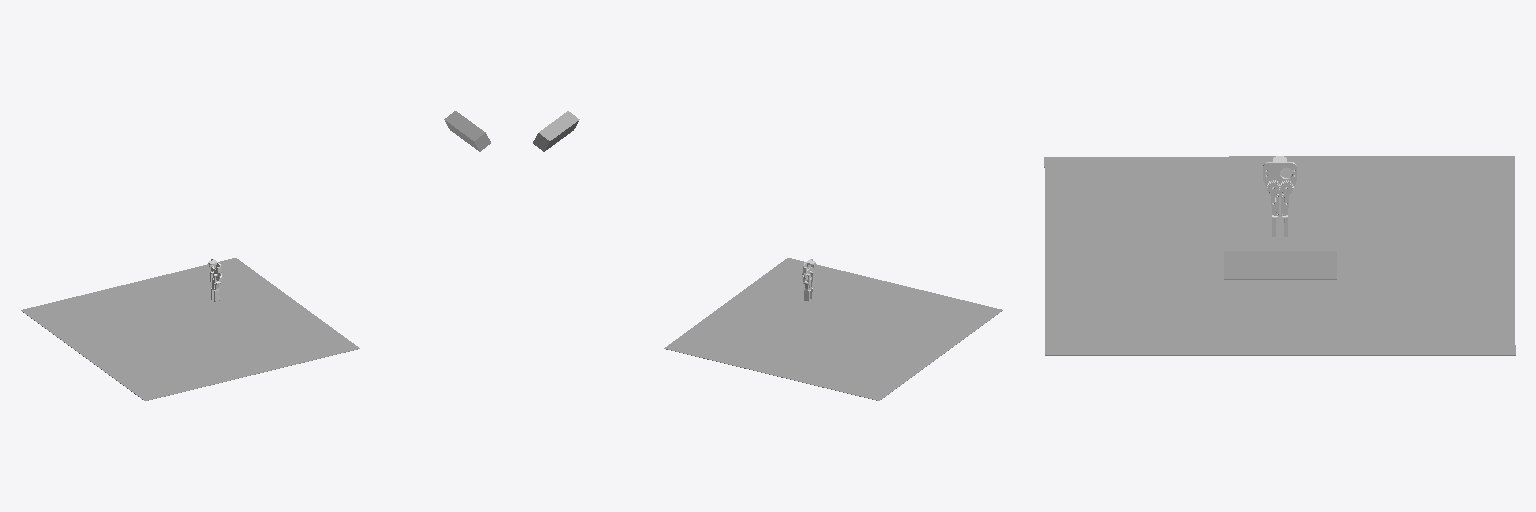
The robot description file, URDF, robot "motoman_motomini":
<?xml version="1.0" encoding="utf-8"?>
<!-- =================================================================================== -->
<!-- |    This document was autogenerated by xacro from motomini.xacro                 | -->
<!-- |    EDITING THIS FILE BY HAND IS NOT RECOMMENDED                                 | -->
<!-- =================================================================================== -->
<robot name="motoman_motomini">
  <!-- Properties -->
  <material name="yaskawa_blue">
    <color rgba="0.12941 0.14902 0.74902 1"/>
  </material>
  <!-- World frame -->
  <link name="world"/>
  <!-- Adding table to the world -->
  <link name="table">
    <origin rpy="0 0 0" xyz="0.0 0.0 0"/>
    <inertial>
      <mass value="5"/>
      <origin xyz="0 0 0"/>
      <inertia ixx="1" ixy="0.0" ixz="0.0" iyy="1" iyz="0.0" izz="1"/>
    </inertial>
    <visual>
      <geometry>
        <box size="0.83 0.830 0.001"/>
      </geometry>
      <material name="light_grey">
        <color rgba="0.7 0.7 0.7 1.0"/>
      </material>
    </visual>
    <collision>
      <geometry>
        <box size="0.83 0.830 0.001"/>
      </geometry>
    </collision>
  </link>
  <!-- link list -->
  <link name="base_link">
    <visual>
      <geometry>
        <mesh filename="package://motoman_motomini_support/meshes/motomini/visual/base_link.stl"/>
      </geometry>
      <material name="yaskawa_blue"/>
    </visual>
    <collision>
      <geometry>
        <mesh filename="package://motoman_motomini_support/meshes/motomini/collision/base_link.stl"/>
      </geometry>
    </collision>
  </link>
  <link name="link_1_s">
    <visual>
      <geometry>
        <mesh filename="package://motoman_motomini_support/meshes/motomini/visual/link_1_s.stl"/>
      </geometry>
      <material name="yaskawa_blue"/>
    </visual>
    <collision>
      <geometry>
        <mesh filename="package://motoman_motomini_support/meshes/motomini/collision/link_1_s.stl"/>
      </geometry>
    </collision>
  </link>
  <link name="link_2_l">
    <visual>
      <geometry>
        <mesh filename="package://motoman_motomini_support/meshes/motomini/visual/link_2_l.stl"/>
      </geometry>
      <material name="yaskawa_blue"/>
    </visual>
    <collision>
      <geometry>
        <mesh filename="package://motoman_motomini_support/meshes/motomini/collision/link_2_l.stl"/>
      </geometry>
    </collision>
  </link>
  <link name="link_3_u">
    <visual>
      <geometry>
        <mesh filename="package://motoman_motomini_support/meshes/motomini/visual/link_3_u.stl"/>
      </geometry>
      <material name="yaskawa_blue"/>
    </visual>
    <collision>
      <geometry>
        <mesh filename="package://motoman_motomini_support/meshes/motomini/collision/link_3_u.stl"/>
      </geometry>
    </collision>
  </link>
  <link name="link_4_r">
    <visual>
      <geometry>
        <mesh filename="package://motoman_motomini_support/meshes/motomini/visual/link_4_r.stl"/>
      </geometry>
      <material name="yaskawa_blue"/>
    </visual>
    <collision>
      <geometry>
        <mesh filename="package://motoman_motomini_support/meshes/motomini/collision/link_4_r.stl"/>
      </geometry>
    </collision>
  </link>
  <link name="link_5_b">
    <visual>
      <geometry>
        <mesh filename="package://motoman_motomini_support/meshes/motomini/visual/link_5_b.stl"/>
      </geometry>
      <material name="yaskawa_blue"/>
    </visual>
    <collision>
      <geometry>
        <mesh filename="package://motoman_motomini_support/meshes/motomini/collision/link_5_b.stl"/>
      </geometry>
    </collision>
  </link>
  <link name="link_6_t">
    <visual>
      <geometry>
        <mesh filename="package://motoman_motomini_support/meshes/motomini/visual/link_6_t.stl"/>
      </geometry>
      <material name="yaskawa_blue"/>
    </visual>
    <collision>
      <geometry>
        <mesh filename="package://motoman_motomini_support/meshes/motomini/collision/link_6_t.stl"/>
      </geometry>
    </collision>
  </link>
  <link name="tool0"/>
  <!-- end of link list -->
  <!-- Kinect link -->
  <material name="black">
    <color rgba="0. 0. 0. 1"/>
  </material>
  <material name="dark_grey">
    <color rgba="0.1 0.1 0.1 1"/>
  </material>
  <material name="grey">
    <color rgba="0.6 0.6 0.6 1"/>
  </material>
  <material name="white">
    <color rgba="0.9 0.9 0.9 1"/>
  </material>
  <link name="camera_link">
    <visual>
      <origin rpy="0 0 0" xyz="0 0 0"/>
      <geometry>
        <box size="0.05 0.2 0.05"/>
      </geometry>
      <material name="light_grey">
        <color rgba="0.7 0.7 0.7 1.0"/>
      </material>
    </visual>
    <collision>
      <origin rpy="0 0 0" xyz="0 0 0"/>
      <geometry>
        <box size="0.05 0.2 0.05"/>
      </geometry>
    </collision>
  </link>
  <!--link name="kinect2_rgb_optical_frame" >
</link-->
  <joint name="camera_joint" type="fixed">
    <parent link="base_link"/>
    <child link="camera_link"/>
    <origin rpy="0 0.4712 -3.14159265359" xyz="1.17 0 0.48"/>
  </joint>
  <!--0.865joint name="camera_optical_joint" type="fixed">  0.4712 ${{-M_PI/2}-0.4712}
    <origin xyz="0 0 0" rpy="${-M_PI/2} 0 ${-M_PI/2}" />
    <parent link="kinect2_link" />
    <child link="kinect2_rgb_optical_frame" />
</joint-->
  <!-- joint list -->
  <joint name="world_joint" type="fixed">
    <parent link="world"/>
    <child link="table"/>
    <origin rpy="0.0 0.0 -1.57" xyz="0.0 0.0 0"/>
  </joint>
  <joint name="table_joint" type="fixed">
    <parent link="table"/>
    <child link="base_link"/>
    <origin rpy="0.0 0.0 1.57079632679" xyz="0 -0.1015 0.0"/>
  </joint>
  <joint name="joint_1_s" type="revolute">
    <parent link="base_link"/>
    <child link="link_1_s"/>
    <origin rpy="0 0 0" xyz="0 0 0.103"/>
    <axis xyz="0 0 1"/>
    <limit effort="0.12" lower="-2.9670" upper="2.9670" velocity="5.4977"/>
  </joint>
  <joint name="joint_2_l" type="revolute">
    <parent link="link_1_s"/>
    <child link="link_2_l"/>
    <origin rpy="0 0 0" xyz="0.020 0 0"/>
    <axis xyz="0 1 0"/>
    <limit effort="0.12" lower="-1.4835" upper="1.5707" velocity="5.4977"/>
  </joint>
  <joint name="joint_3_u" type="revolute">
    <parent link="link_2_l"/>
    <child link="link_3_u"/>
    <origin rpy="0 0 0" xyz="0 0 0.165"/>
    <axis xyz="0 -1 0"/>
    <limit effort="0.12" lower="-0.8726" upper="1.5707" velocity="7.3304"/>
  </joint>
  <joint name="joint_4_r" type="revolute">
    <parent link="link_3_u"/>
    <child link="link_4_r"/>
    <origin rpy="0 0 0" xyz="0.165 0 0"/>
    <axis xyz="-1 0 0"/>
    <limit effort="0.07" lower="-2.4434" upper="2.4434" velocity="10.4719"/>
  </joint>
  <joint name="joint_5_b" type="revolute">
    <parent link="link_4_r"/>
    <child link="link_5_b"/>
    <origin rpy="0 0 0" xyz="0 0 0"/>
    <axis xyz="0 -1 0"/>
    <limit effort="0.07" lower="-0.5235" upper="3.6651" velocity="10.4719"/>
  </joint>
  <joint name="joint_6_t" type="revolute">
    <parent link="link_5_b"/>
    <child link="link_6_t"/>
    <origin rpy="0 0 0" xyz="0 0 0"/>
    <axis xyz="0 0 1"/>
    <limit effort="0.07" lower="-6.2831" upper="6.2831" velocity="10.4719"/>
  </joint>
  <joint name="joint_6_t-tool0" type="fixed">
    <origin rpy="3.14159265359 0 0" xyz="0 0 -0.040 "/>
    <parent link="link_6_t"/>
    <child link="tool0"/>
  </joint>
  <!-- end of joint list -->
  <!-- ROS base_link to Robot Manufacturer World Coordinates transform -->
  <link name="base"/>
  <joint name="base_link-base" type="fixed">
    <origin rpy="0 0 0" xyz="0 0 0.103"/>
    <parent link="base_link"/>
    <child link="base"/>
  </joint>
  <link name="gripper_base">
    <visual>
      <geometry>
        <mesh filename="package://motoman_motomini_support/meshes/gripper/base.stl"/>
      </geometry>
      <material name="white"/>
    </visual>
    <collision>
      <geometry>
        <mesh filename="package://motoman_motomini_support/meshes/gripper/base.stl"/>
      </geometry>
    </collision>
  </link>
  <link name="claw_1a">
    <visual>
      <geometry>
        <mesh filename="package://motoman_motomini_support/meshes/gripper/claw_1.stl"/>
      </geometry>
      <material name="white"/>
    </visual>
    <collision>
      <geometry>
        <mesh filename="package://motoman_motomini_support/meshes/gripper/claw_1.stl"/>
      </geometry>
    </collision>
  </link>
  <link name="claw_1b">
    <visual>
      <geometry>
        <mesh filename="package://motoman_motomini_support/meshes/gripper/claw_1.stl"/>
      </geometry>
      <material name="white"/>
    </visual>
    <collision>
      <geometry>
        <mesh filename="package://motoman_motomini_support/meshes/gripper/claw_1.stl"/>
      </geometry>
    </collision>
  </link>
  <link name="claw_2a">
    <visual>
      <geometry>
        <mesh filename="package://motoman_motomini_support/meshes/gripper/claw_2.stl"/>
      </geometry>
      <material name="white"/>
    </visual>
    <collision>
      <geometry>
        <mesh filename="package://motoman_motomini_support/meshes/gripper/claw_2.stl"/>
      </geometry>
    </collision>
  </link>
  <link name="claw_2b">
    <visual>
      <geometry>
        <mesh filename="package://motoman_motomini_support/meshes/gripper/claw_2.stl"/>
      </geometry>
      <material name="white"/>
    </visual>
    <collision>
      <geometry>
        <mesh filename="package://motoman_motomini_support/meshes/gripper/claw_2.stl"/>
      </geometry>
    </collision>
  </link>
  <link name="link_1a">
    <visual>
      <geometry>
        <mesh filename="package://motoman_motomini_support/meshes/gripper/link_1.stl"/>
      </geometry>
      <material name="white"/>
    </visual>
    <collision>
      <geometry>
        <mesh filename="package://motoman_motomini_support/meshes/gripper/link_1.stl"/>
      </geometry>
    </collision>
  </link>
  <link name="link_1b">
    <visual>
      <geometry>
        <mesh filename="package://motoman_motomini_support/meshes/gripper/link_1.stl"/>
      </geometry>
      <material name="white"/>
    </visual>
    <collision>
      <geometry>
        <mesh filename="package://motoman_motomini_support/meshes/gripper/link_1.stl"/>
      </geometry>
    </collision>
  </link>
  <link name="link_2a">
    <visual>
      <geometry>
        <mesh filename="package://motoman_motomini_support/meshes/gripper/link_2.stl"/>
      </geometry>
      <material name="white"/>
    </visual>
    <collision>
      <geometry>
        <mesh filename="package://motoman_motomini_support/meshes/gripper/link_2.stl"/>
      </geometry>
    </collision>
  </link>
  <link name="link_2b">
    <visual>
      <geometry>
        <mesh filename="package://motoman_motomini_support/meshes/gripper/link_2.stl"/>
      </geometry>
      <material name="white"/>
    </visual>
    <collision>
      <geometry>
        <mesh filename="package://motoman_motomini_support/meshes/gripper/link_2.stl"/>
      </geometry>
    </collision>
  </link>
  <link name="link_2c">
    <visual>
      <geometry>
        <mesh filename="package://motoman_motomini_support/meshes/gripper/link_2.stl"/>
      </geometry>
      <material name="white"/>
    </visual>
    <collision>
      <geometry>
        <mesh filename="package://motoman_motomini_support/meshes/gripper/link_2.stl"/>
      </geometry>
    </collision>
  </link>
  <link name="link_2d">
    <visual>
      <geometry>
        <mesh filename="package://motoman_motomini_support/meshes/gripper/link_2.stl"/>
      </geometry>
      <material name="white"/>
    </visual>
    <collision>
      <geometry>
        <mesh filename="package://motoman_motomini_support/meshes/gripper/link_2.stl"/>
      </geometry>
    </collision>
  </link>
  <joint name="gripper_joint" type="fixed">
    <parent link="tool0"/>
    <child link="gripper_base"/>
    <origin rpy="0 -1.5707 3.142" xyz="0 0 0"/>
    <!--<limit lower= "-3.0" upper= "3.0" effort="200" velocity="3" />
    <axis xyz = "0 0 1" />-->
  </joint>
  <joint name="claw_1b_joint" type="revolute">
    <parent link="gripper_base"/>
    <child link="claw_1b"/>
    <limit effort="200" lower="-3.0" upper="3.0" velocity="3"/>
    <axis xyz="0 0 1"/>
    <origin rpy="0.0 0.0 0" xyz="0.045 0.01154 0.017503"/>
  </joint>
  <joint name="claw_1a_joint" type="revolute">
    <parent link="gripper_base"/>
    <child link="claw_1a"/>
    <limit effort="200" lower="-3.0" upper="3.0" velocity="3"/>
    <axis xyz="0 0 1"/>
    <origin rpy="0.0 0.0 0" xyz="0.045 -0.01154 0.017503"/>
    <mimic joint="claw_1b_joint" multiplier="-1"/>
  </joint>
  <joint name="claw_2a_joint" type="revolute">
    <parent link="claw_1a"/>
    <child link="claw_2a"/>
    <limit effort="200" lower="-3.0" upper="3.0" velocity="3"/>
    <axis xyz="0 0 1"/>
    <!--origin rpy="0.0 3.142 0" xyz="0.032 -0.011563 0.0050405"/-->
    <origin rpy="0.0 3.142 0.2" xyz="0.03 0 -0.005"/>
    <mimic joint="claw_1b_joint" multiplier="-1"/>
  </joint>
  <joint name="claw_2b_joint" type="revolute">
    <parent link="claw_1b"/>
    <child link="claw_2b"/>
    <limit effort="200" lower="-3.0" upper="3.0" velocity="3"/>
    <axis xyz="0 0 1"/>
    <origin rpy="3.142 3.142 -0.2" xyz="0.03 0 -0.005"/>
    <mimic joint="claw_1b_joint" multiplier="-1"/>
  </joint>
  <joint name="link_1a_joint" type="revolute">
    <parent link="gripper_base"/>
    <child link="link_1a"/>
    <limit effort="200" lower="-3.0" upper="3.0" velocity="3"/>
    <axis xyz="0 0 1"/>
    <origin rpy="0.0 0.0 3.142" xyz="0.045 -0.01154 0.0044"/>
    <mimic joint="claw_1b_joint" multiplier="-1"/>
  </joint>
  <joint name="link_1b_joint" type="revolute">
    <parent link="gripper_base"/>
    <child link="link_1b"/>
    <limit effort="200" lower="-3.0" upper="3.0" velocity="3"/>
    <axis xyz="0 0 1"/>
    <origin rpy="0.0 0.0 3.142" xyz="0.045 0.01154 0.0044"/>
    <mimic joint="claw_1b_joint" multiplier="1"/>
  </joint>
  <joint name="link_2a_joint" type="revolute">
    <parent link="gripper_base"/>
    <child link="link_2a"/>
    <limit effort="200" lower="-3.0" upper="3.0" velocity="3"/>
    <axis xyz="0 0 1"/>
    <origin rpy="0.0 0.0 3.142" xyz="0.062257 -0.0040985 0.02"/>
    <mimic joint="claw_1b_joint" multiplier="-1"/>
  </joint>
  <joint name="link_2b_joint" type="revolute">
    <parent link="gripper_base"/>
    <child link="link_2b"/>
    <limit effort="200" lower="-3.0" upper="3.0" velocity="3"/>
    <axis xyz="0 0 1"/>
    <origin rpy="0.0 0.0 3.142" xyz="0.062257 0.0040985 0.02"/>
    <mimic joint="claw_1b_joint" multiplier="1"/>
  </joint>
  <joint name="link_2c_joint" type="revolute">
    <parent link="gripper_base"/>
    <child link="link_2c"/>
    <limit effort="200" lower="-3.0" upper="3.0" velocity="3"/>
    <axis xyz="0 0 1"/>
    <origin rpy="0.0 0.0 3.142" xyz="0.062257 -0.0040985 0.005"/>
    <mimic joint="claw_1b_joint" multiplier="-1"/>
  </joint>
  <joint name="link_2d_joint" type="revolute">
    <parent link="gripper_base"/>
    <child link="link_2d"/>
    <limit effort="200" lower="-3.0" upper="3.0" velocity="3"/>
    <axis xyz="0 0 1"/>
    <origin rpy="0.0 0.0 3.142" xyz="0.062257 0.0040985 0.005"/>
    <mimic joint="claw_1b_joint" multiplier="1"/>
  </joint>
  <link name="realsense_link">
    <collision>
      <origin rpy="0 0 0" xyz="0.02 0 0"/>
      <geometry>
        <box size="0.001 0.001 0.001"/>
      </geometry>
    </collision>
    <visual>
      <origin rpy="1.5707 0 1.5707" xyz="0 0 0"/>
      <geometry>
        <mesh filename="package://motoman_motomini_support/meshes/NAVRS.STL"/>
      </geometry>
    </visual>
    <inertial>
      <mass value="1e-5"/>
      <origin rpy="0 0 0" xyz="0 0 0"/>
      <inertia ixx="0" ixy="0" ixz="0" iyy="0" iyz="0" izz="0"/>
    </inertial>
  </link>
  <joint name="realsense_joint" type="fixed">
    <parent link="gripper_base"/>
    <child link="realsense_link"/>
    <origin rpy="0 0 0" xyz="0.05 0 0.055"/>
    <!--<limit lower= "-3.0" upper= "3.0" effort="200" velocity="3" />
    <axis xyz = "0 0 1" />-->
  </joint>
  <!--joint name="camera_optical_joint2" type="fixed">
    <origin xyz="0 0 0" rpy="${-pi/2} 0 ${-pi/2}"/>
    <parent link="camera_link2"/>
    <child link="camera_rgb_frame2"/>
  </joint>

  <link name="camera_rgb_frame2">
  </link>

  <joint name="camera_depth_joint2" type="fixed">
    <origin xyz="0 0 0" rpy="${-pi/2} 0 ${-pi/2}"/>
    <parent link="camera_link2"/>
    <child link="camera_depth_frame2"/>
  </joint>

    <link name="camera_depth_frame2">
  </link-->
</robot>

--- Facts derived from the render (not from the file) ---
The picture shows the robot from 3 angles, left to right: view 1: azimuth 30°, elevation 25°; view 2: azimuth 150°, elevation 25°; view 3: azimuth 270°, elevation 25°; orthographic projection.
Robot: motoman_motomini — 24 links, 23 joints (16 revolute, 7 fixed); root link world; default pose: all joints at 0.
Visible links, largest first — view 1: table, camera_link; view 2: table, camera_link; view 3: table, camera_link, gripper_base.
Boxes of the visible links, left/top/right/bottom form: table: left=21, top=258, right=359, bottom=400; camera_link: left=444, top=111, right=490, bottom=151; table: left=664, top=258, right=1002, bottom=400; camera_link: left=533, top=111, right=579, bottom=151; table: left=1044, top=156, right=1515, bottom=355; camera_link: left=1224, top=251, right=1336, bottom=279; gripper_base: left=1263, top=156, right=1296, bottom=196.
Size in the robot's own frame: 1.52 by 0.8307 by 0.5141 metres.
11 mesh visuals loaded from 13 distinct referenced files (5 binary STL); not drawn: 8 (reference not matched to a file when rendering).
